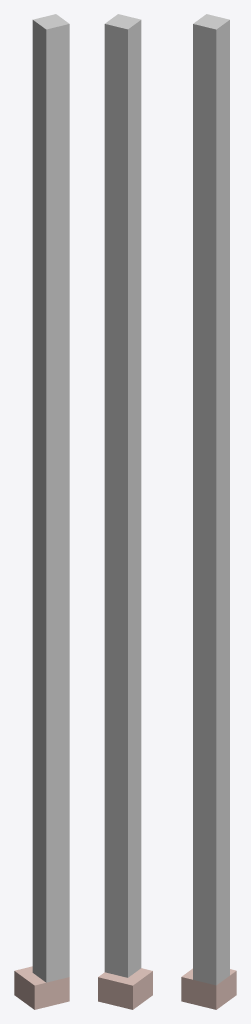
File: Wall 3 Edge.fbx
3 views of the same model, side by side, from view 1: azimuth 30°, elevation 25°; view 2: azimuth 150°, elevation 25°; view 3: azimuth 330°, elevation 25° (orthographic).
Visible parts, largest first — view 1: Cube.003; view 2: Cube.003; view 3: Cube.003.
Boxes of the visible parts, x1=… form: Cube.003: x1=14, y1=14, x2=69, y2=1009; Cube.003: x1=98, y1=14, x2=152, y2=1009; Cube.003: x1=181, y1=14, x2=236, y2=1009.
Bounding box in the file's own units: 15 × 400 × 15.
